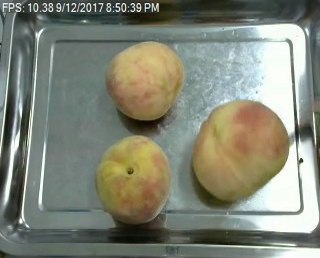Peach: (191, 98, 289, 203), (94, 133, 171, 223), (105, 40, 183, 120)
